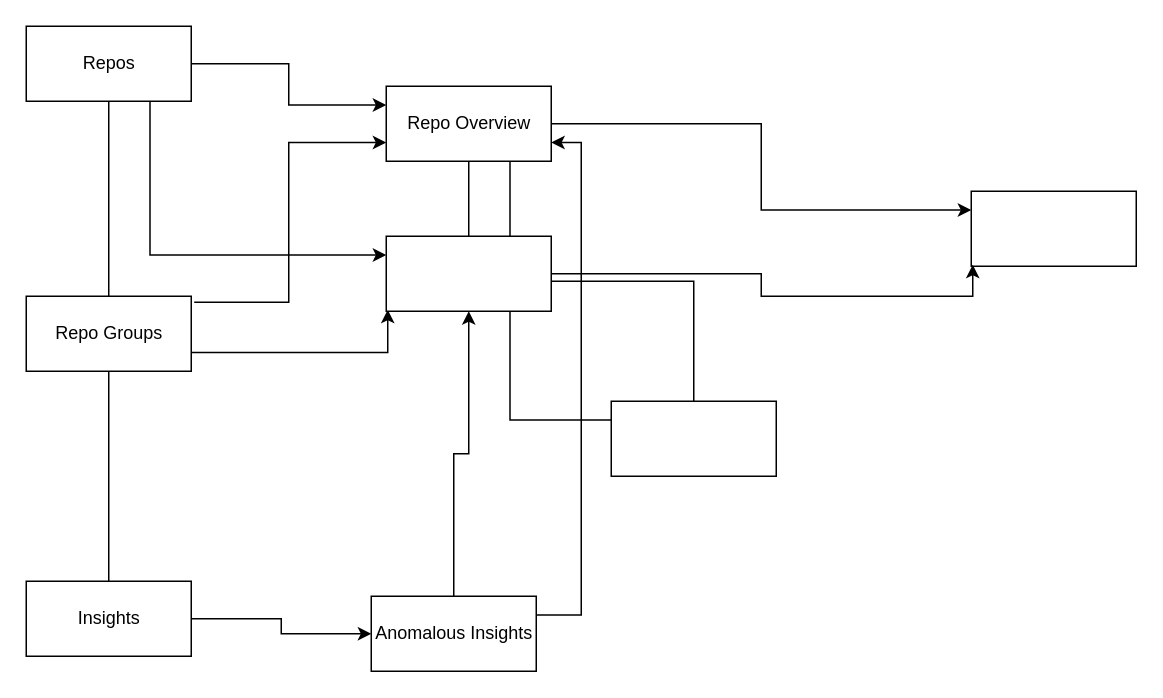
This 1163x698 diagram has some shape labels left out. Each missing label, with the centre of its shape:
Repo Compare: the point at 1053,228
Repo Metrics: the point at 468,273
Search Repos: the point at 693,438
